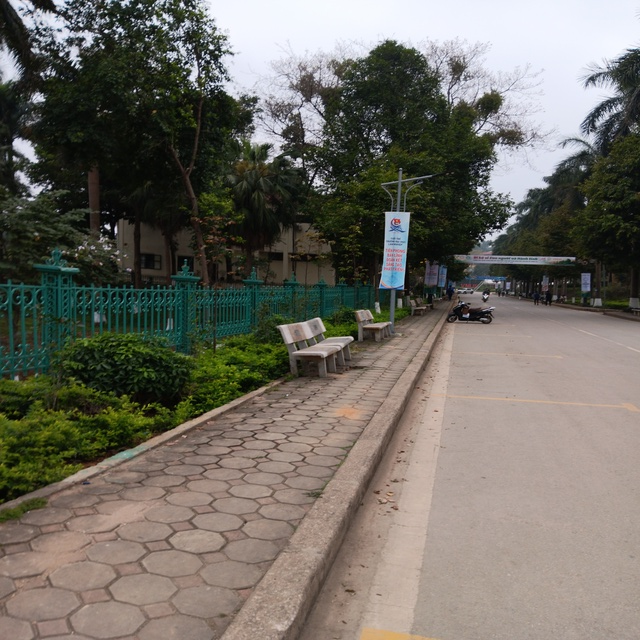gheda: (267, 324, 346, 382), (298, 315, 365, 367), (348, 308, 398, 348), (409, 290, 436, 324)
